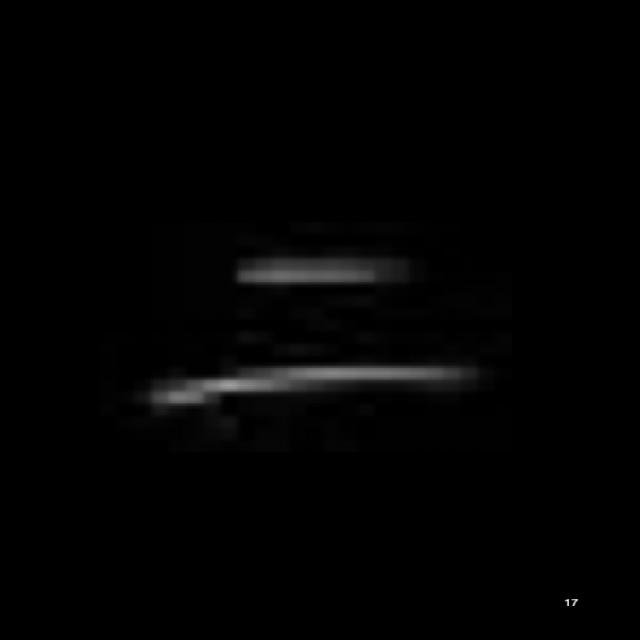2 -two-: (126, 247, 483, 419)
